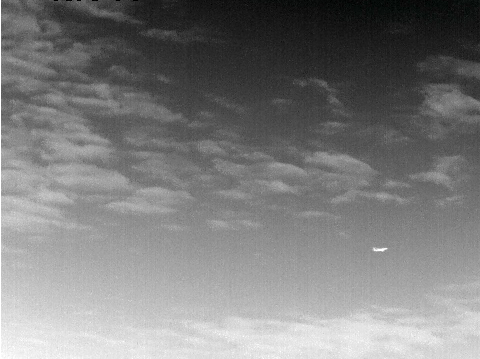dim target: (372, 246, 389, 253)
